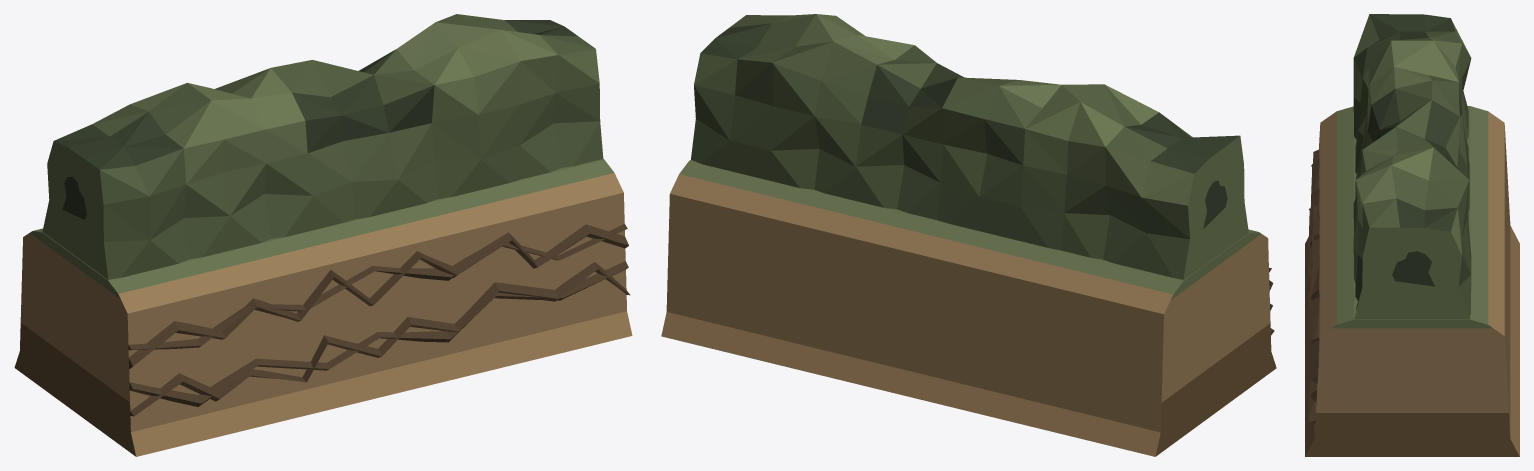
Rendered from bocage-hedgerow-section-4c3126.glb.
The picture shows the model from 3 angles, left to right: view 1: azimuth 30°, elevation 25°; view 2: azimuth 150°, elevation 25°; view 3: azimuth 270°, elevation 25°; orthographic projection. The views are drawn at different scales.
Visible parts, largest first — view 1: bocage-hedgerow-section, hedgerow-crown; view 2: bocage-hedgerow-section, hedgerow-crown; view 3: bocage-hedgerow-section, hedgerow-crown.
Boxes of the visible parts, <box> form: bocage-hedgerow-section: <box>14,159,632,456</box>; hedgerow-crown: <box>42,14,603,279</box>; bocage-hedgerow-section: <box>661,160,1276,456</box>; hedgerow-crown: <box>691,14,1248,280</box>; bocage-hedgerow-section: <box>1305,106,1519,456</box>; hedgerow-crown: <box>1353,14,1471,319</box>.
Size of the model in its own units: 4 by 2.24 by 1.7.
